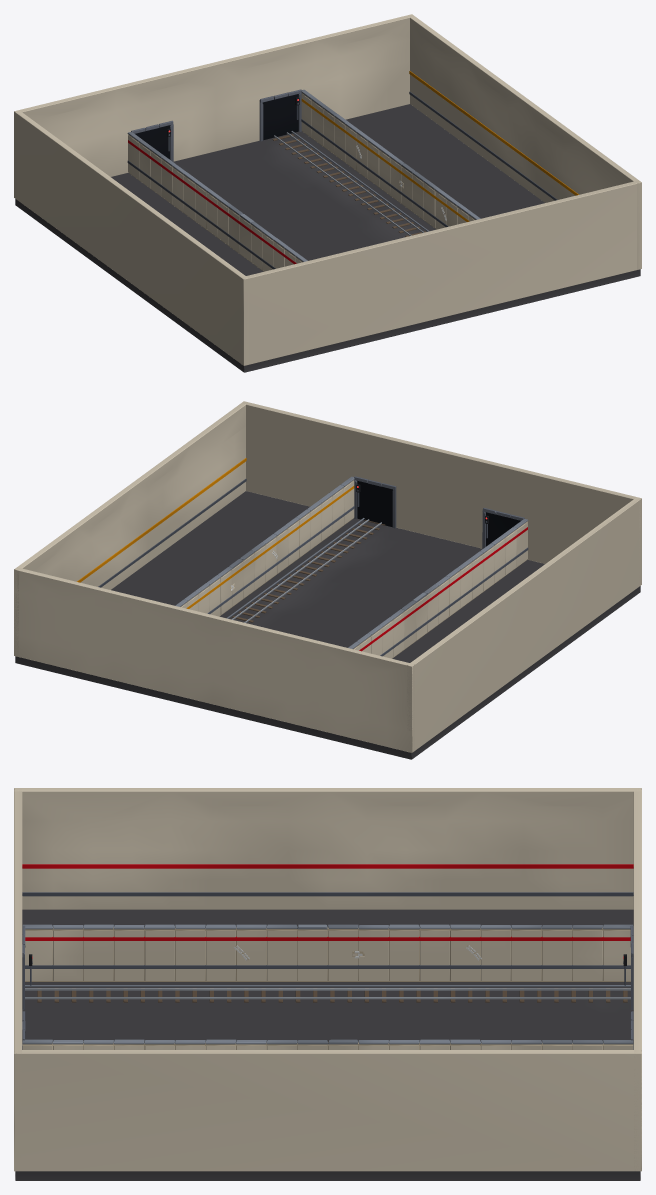
Rendered from station_shell.glb.
The picture shows the model from 3 angles, top to bottom: view 1: azimuth 30°, elevation 25°; view 2: azimuth 150°, elevation 25°; view 3: azimuth 270°, elevation 25°; orthographic projection. The views are drawn at different scales.
Visible parts, largest first — view 1: station_shell; view 2: station_shell; view 3: station_shell.
Boxes of the visible parts, x1,y1,x2,y2 form: station_shell: (14, 14, 641, 372); station_shell: (14, 401, 641, 759); station_shell: (14, 788, 641, 1180).
Bounding box in the file's own units: 45.2 × 10.2 × 45.2.
